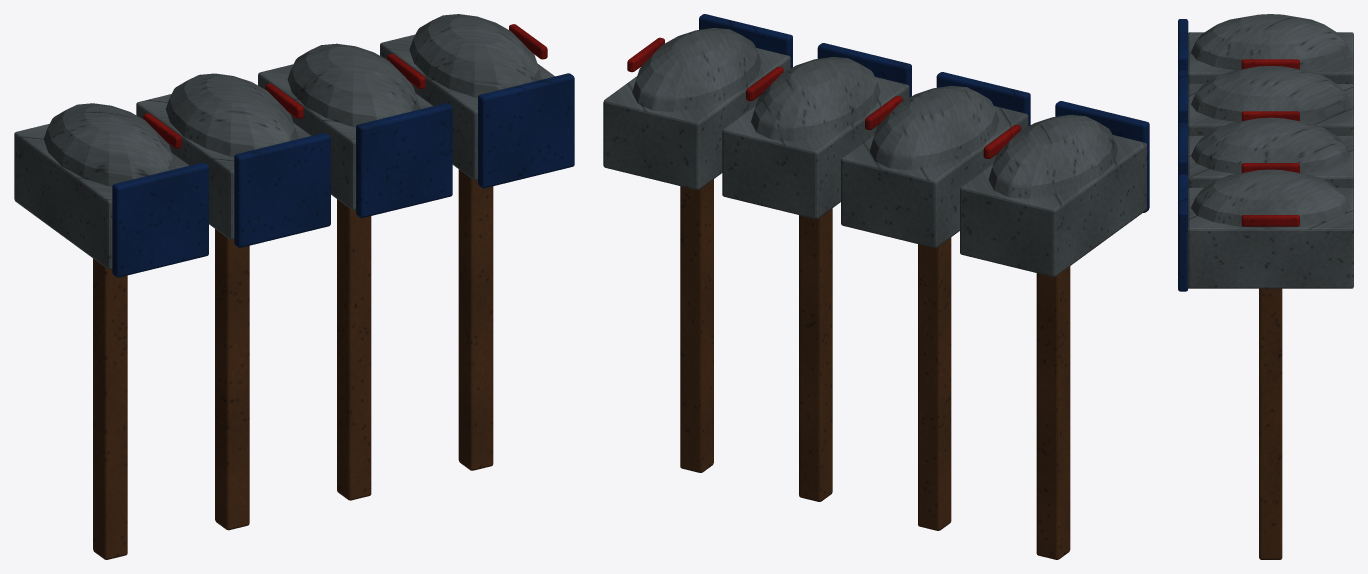
File: PROP-96DD200946B3_lod0.glb
3 views of the same model, side by side, from view 1: azimuth 30°, elevation 25°; view 2: azimuth 150°, elevation 25°; view 3: azimuth 270°, elevation 25° (orthographic). The views are drawn at different scales.
Visible parts, largest first — view 1: mail_post.002, mailbox_door.002, mailbox_round_roof.002, mailbox_lower.002, mailbox_flag.002; view 2: mailbox_lower.002, mail_post.002, mailbox_round_roof.002, mailbox_door.002, mailbox_flag.002; view 3: mailbox_round_roof.002, mailbox_lower.002, mail_post.002, mailbox_door.002, mailbox_flag.002.
Part boxes in pixels (x1,y1,x2,y2): mail_post.002: [93, 169, 493, 559]; mailbox_door.002: [112, 73, 574, 277]; mailbox_round_roof.002: [44, 14, 542, 186]; mailbox_lower.002: [14, 34, 554, 269]; mailbox_flag.002: [143, 24, 547, 148]; mailbox_lower.002: [603, 48, 1146, 276]; mail_post.002: [680, 179, 1070, 559]; mailbox_round_roof.002: [632, 28, 1118, 199]; mailbox_door.002: [699, 14, 1149, 212]; mailbox_flag.002: [627, 37, 1021, 158]; mailbox_round_roof.002: [1191, 14, 1350, 228]; mailbox_lower.002: [1187, 32, 1353, 288]; mail_post.002: [1259, 288, 1282, 559]; mailbox_door.002: [1178, 19, 1188, 291]; mailbox_flag.002: [1241, 59, 1299, 226].
Bounding box in the file's own units: 1.62 × 1.44 × 0.6025.
4 materials, 4 textured.
